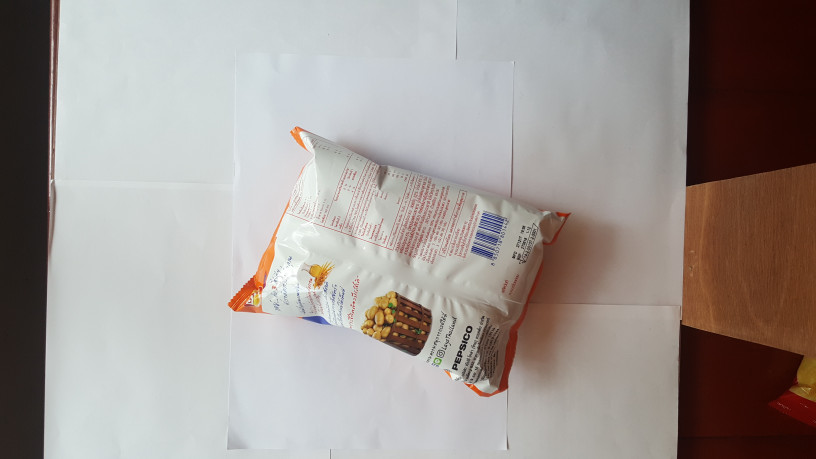lays-bbq: (217, 116, 583, 401)
